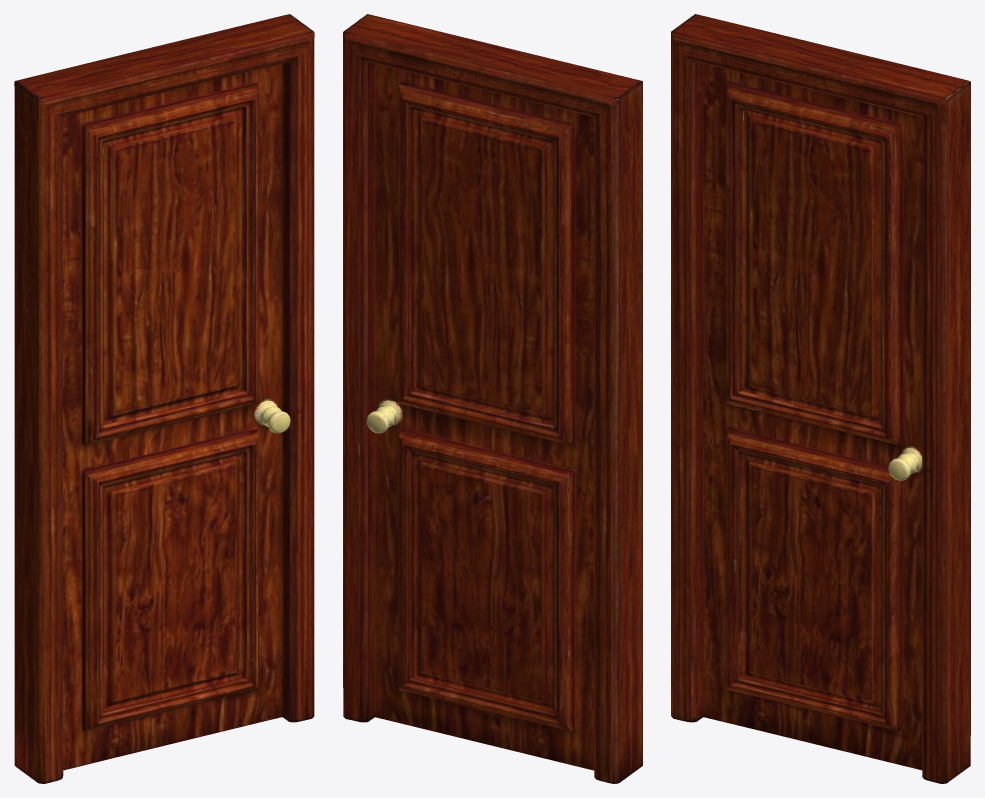
Rendered from door.glb.
The picture shows the model from 3 angles, left to right: view 1: azimuth 30°, elevation 25°; view 2: azimuth 150°, elevation 25°; view 3: azimuth 330°, elevation 25°; orthographic projection.
Visible parts, largest first — view 1: door; view 2: door; view 3: door.
Part boxes in pixels (x1,y1,x2,y2): door: (14, 14, 314, 783); door: (343, 14, 642, 783); door: (671, 14, 970, 783).
Bounding box in the file's own units: 0.4217 × 1 × 0.1082.
Materials: 1 (1 with a texture image).
